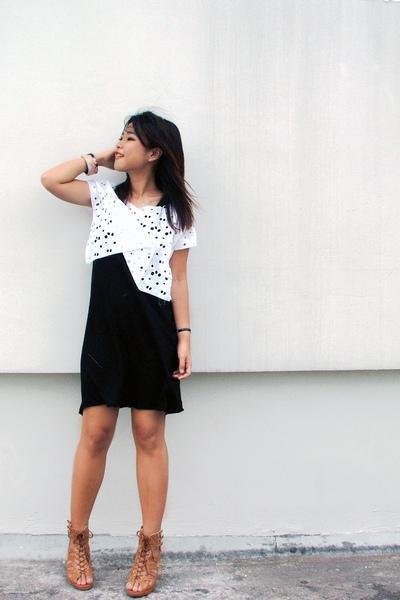shirt: (87, 181, 180, 299)
shoe: (63, 527, 163, 598)
skirt: (79, 253, 186, 414)
